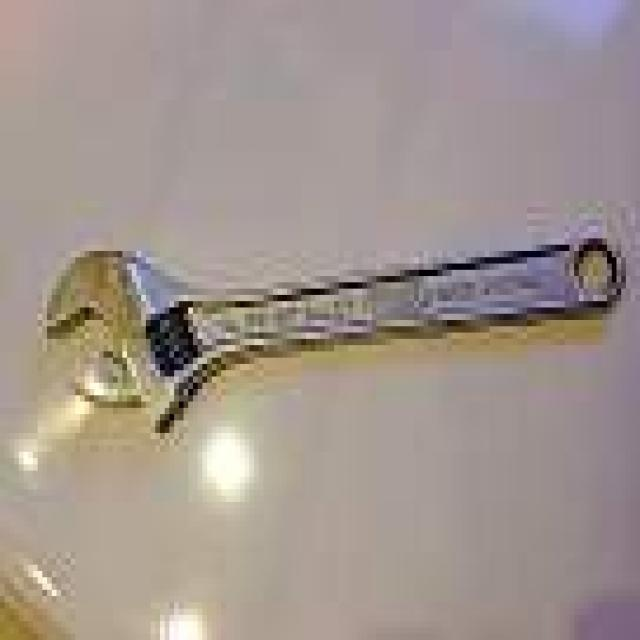wrench: (35, 225, 632, 448)
